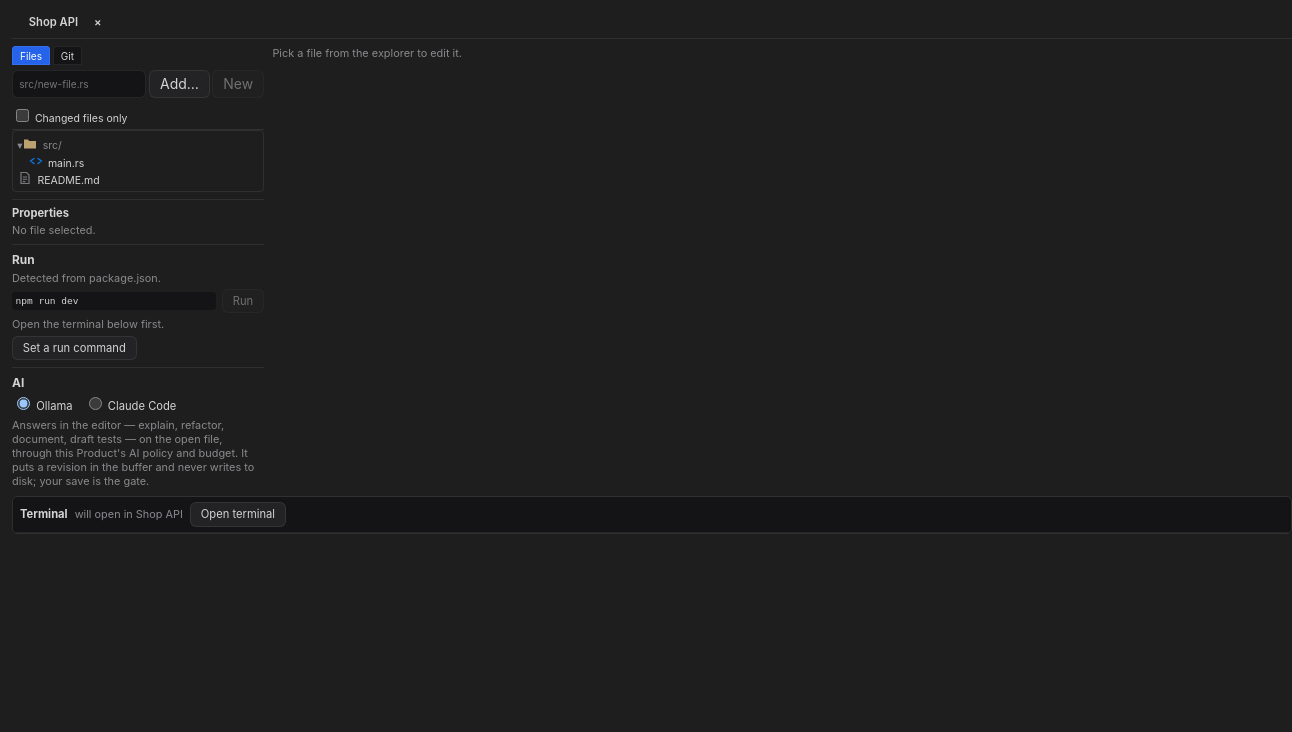
Test: CodeEditor › swaps the tree for the changed files when git is toggled on
Expected: the list named "Files in Shop API" is shown, [12,130,264,192]
Click the checkbox labelled "Changed files only" at (22, 116), box [16,109,29,122]
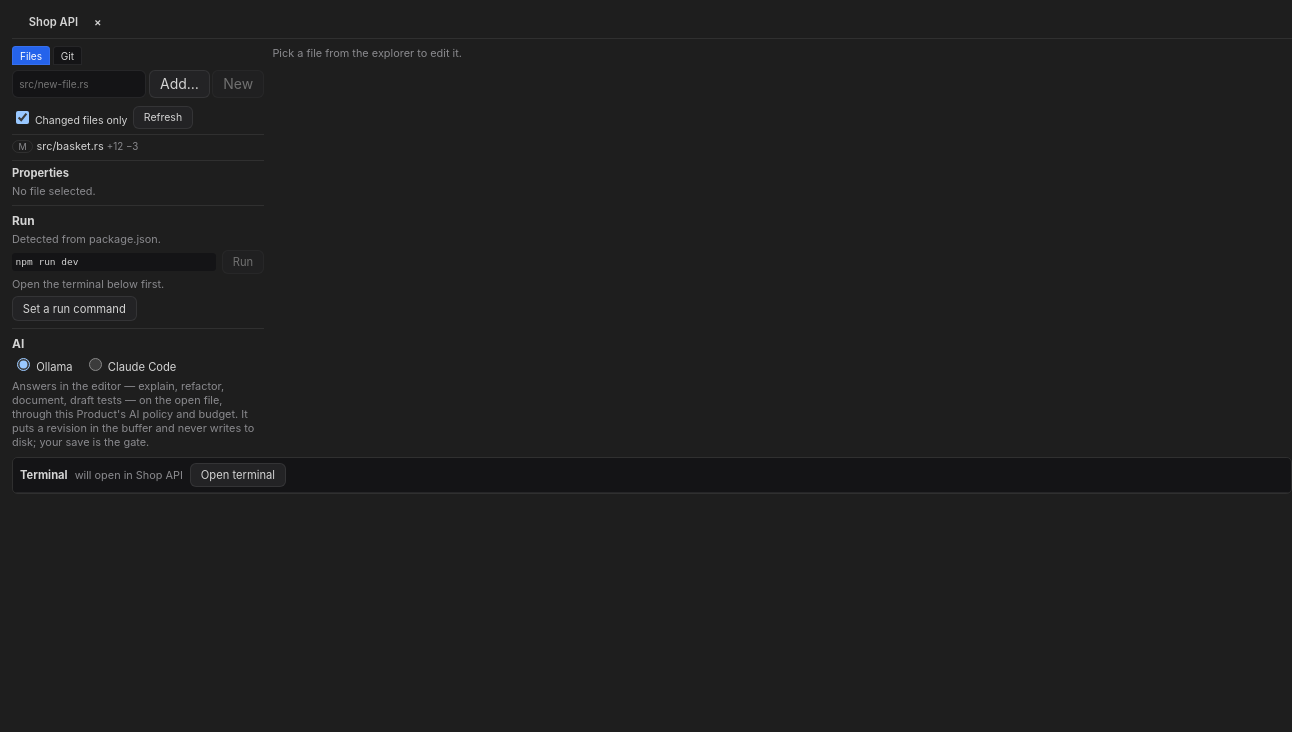
Now the button "M src/basket.rs +12 −3" is shown, box [12,139,138,153]
Now the text "+12 −3" is shown, box [107,141,138,152]
